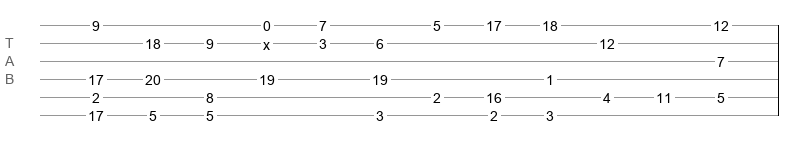0: (263, 18, 271, 28)
1: (546, 72, 554, 82)
11: (656, 90, 672, 100)
12: (599, 36, 615, 46), (713, 18, 729, 28)
16: (486, 90, 502, 100)
17: (88, 108, 104, 118), (88, 72, 104, 82), (486, 18, 502, 28)
18: (145, 36, 161, 46), (542, 18, 558, 28)
19: (259, 72, 275, 82), (372, 72, 388, 82)
2: (92, 90, 100, 100), (433, 90, 441, 100), (490, 108, 498, 118)
20: (145, 72, 161, 82)
3: (319, 36, 327, 46), (376, 108, 384, 118), (546, 108, 554, 118)
4: (603, 90, 611, 100)
5: (149, 108, 157, 118), (206, 108, 214, 118), (433, 18, 441, 28), (717, 90, 725, 100)
6: (376, 36, 384, 46)
7: (319, 18, 327, 28), (717, 54, 725, 64)
8: (206, 90, 214, 100)
9: (92, 18, 100, 28), (206, 36, 214, 46)
x: (263, 37, 270, 45)
